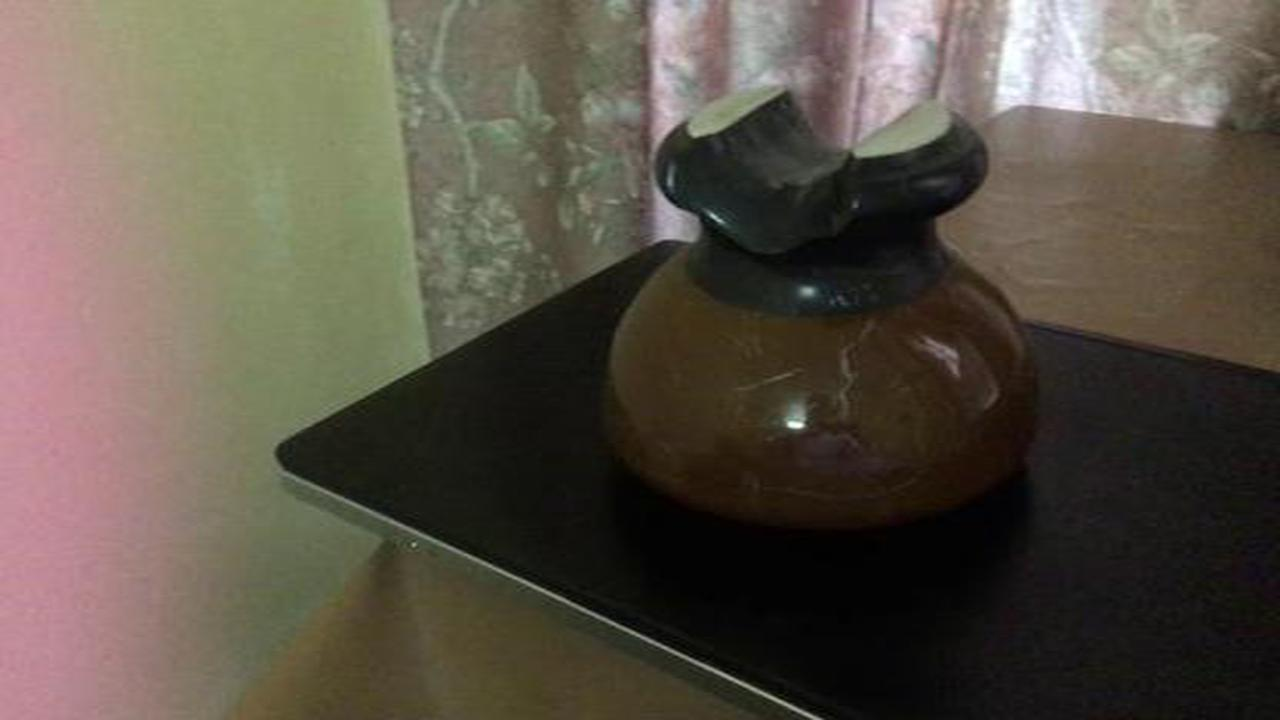insulator_pin: (573, 59, 1074, 556)
